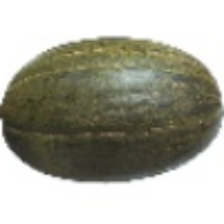honeydew: (34, 0, 223, 183)
